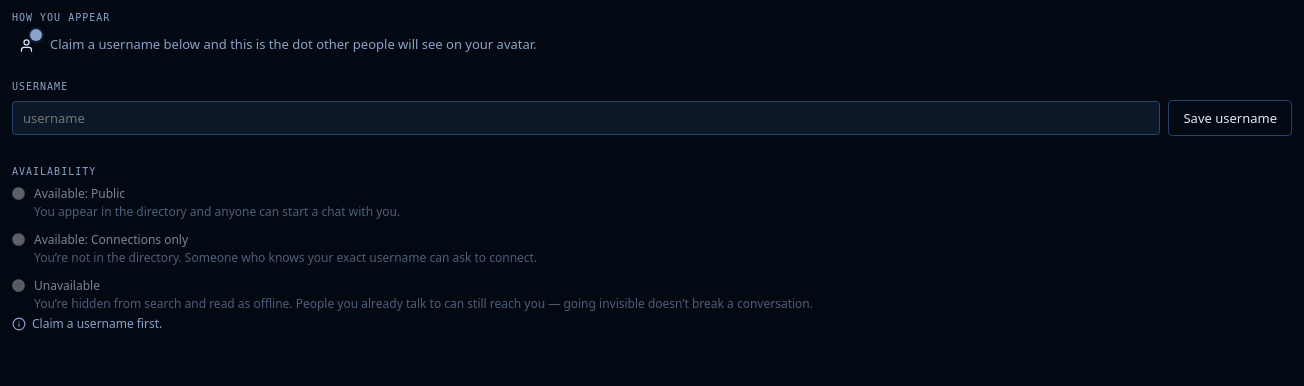
SettingsChatPane — the server's answer wins › 429 asks the user to wait rather than blaming the name
Type "ada_l" into the field with test id "chat-username-input". click: [586, 118]
box: [12,101,1160,135]
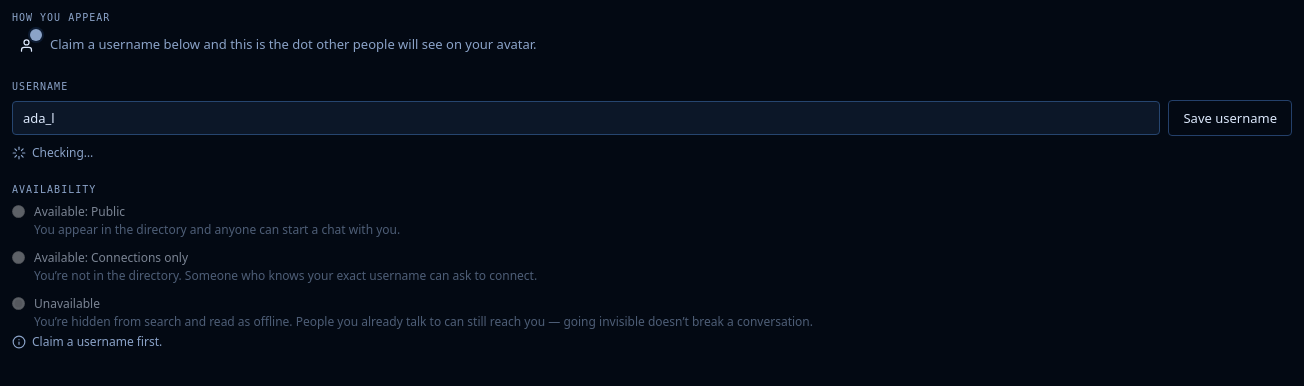
Click the button with test id "chat-username-save". click: [1230, 118]
box: [1168,100,1292,136]
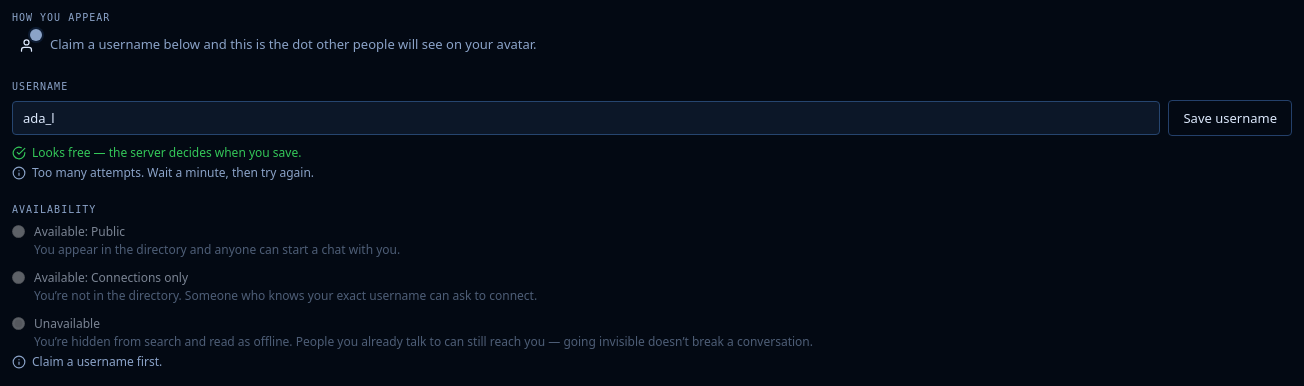
Result: the element with test id "chat-claim-note" is shown at [12,164,314,181]
